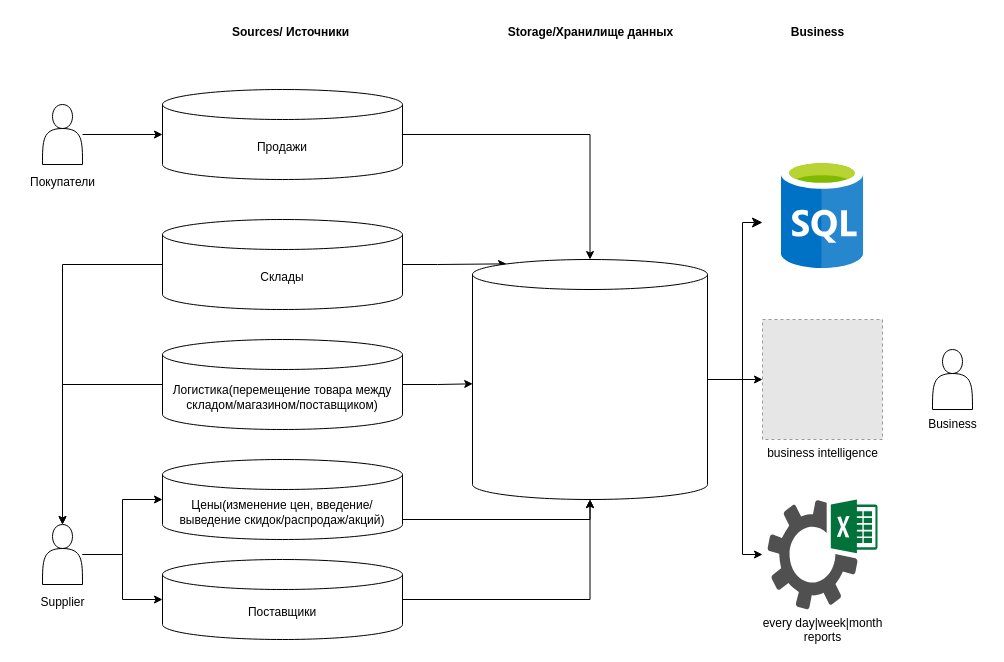
The diagram is 1004 pixels wide and 662 high, and some of its shapes have lost their labels. Grey dashed boxes stand in for pictures. Here are the shapes that lost their labels. From the top down, the centre of each, then its label:
At pixel 822 213: "SQL Client".
At pixel 590 379: "Базы данных".
